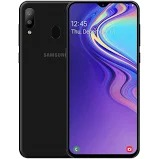samsung: (16, 1, 141, 158)
